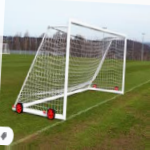goals: (13, 18, 128, 121)
